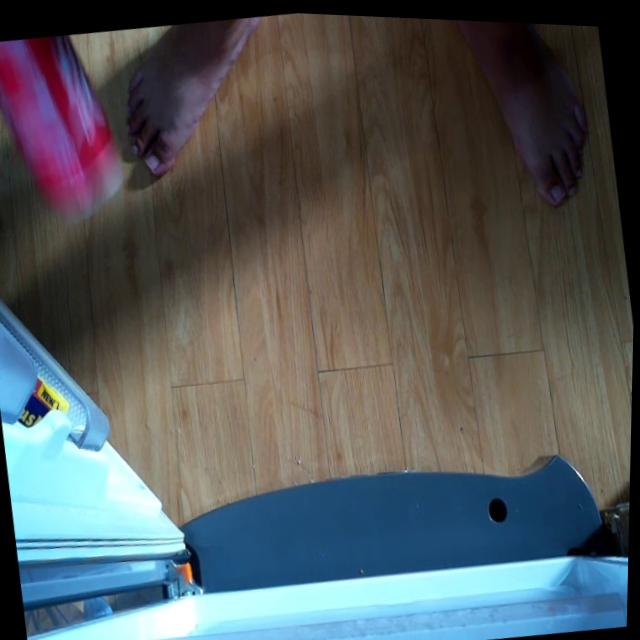coke: (0, 26, 135, 222)
